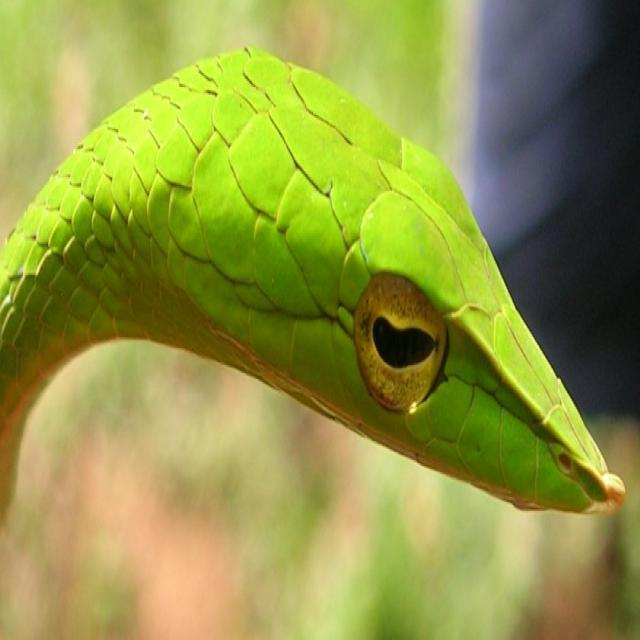Snake: (0, 41, 629, 470)
